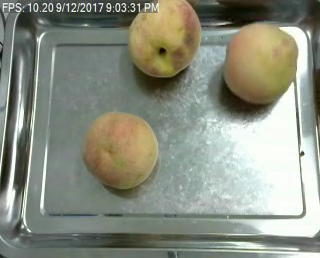Peach: (222, 21, 298, 104), (81, 111, 159, 190), (127, 0, 201, 78)
